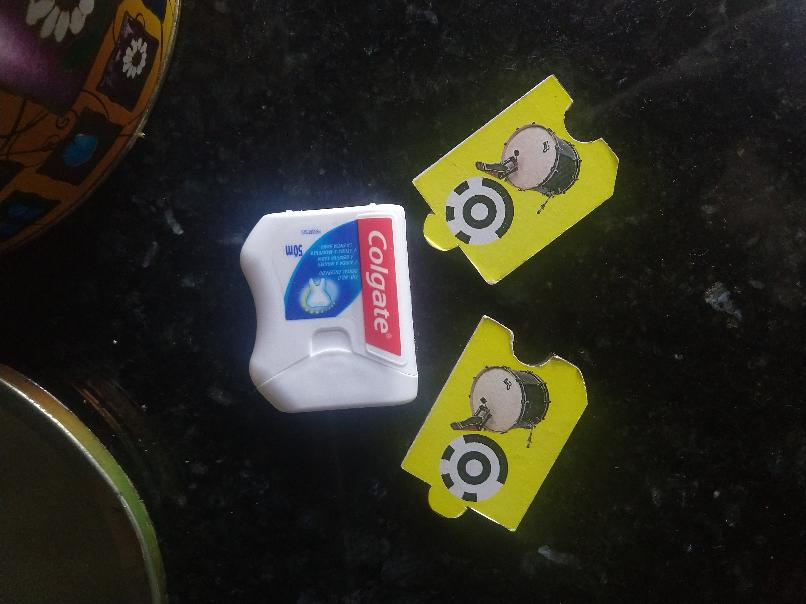bumbo: (411, 75, 620, 284), (397, 312, 592, 536)
